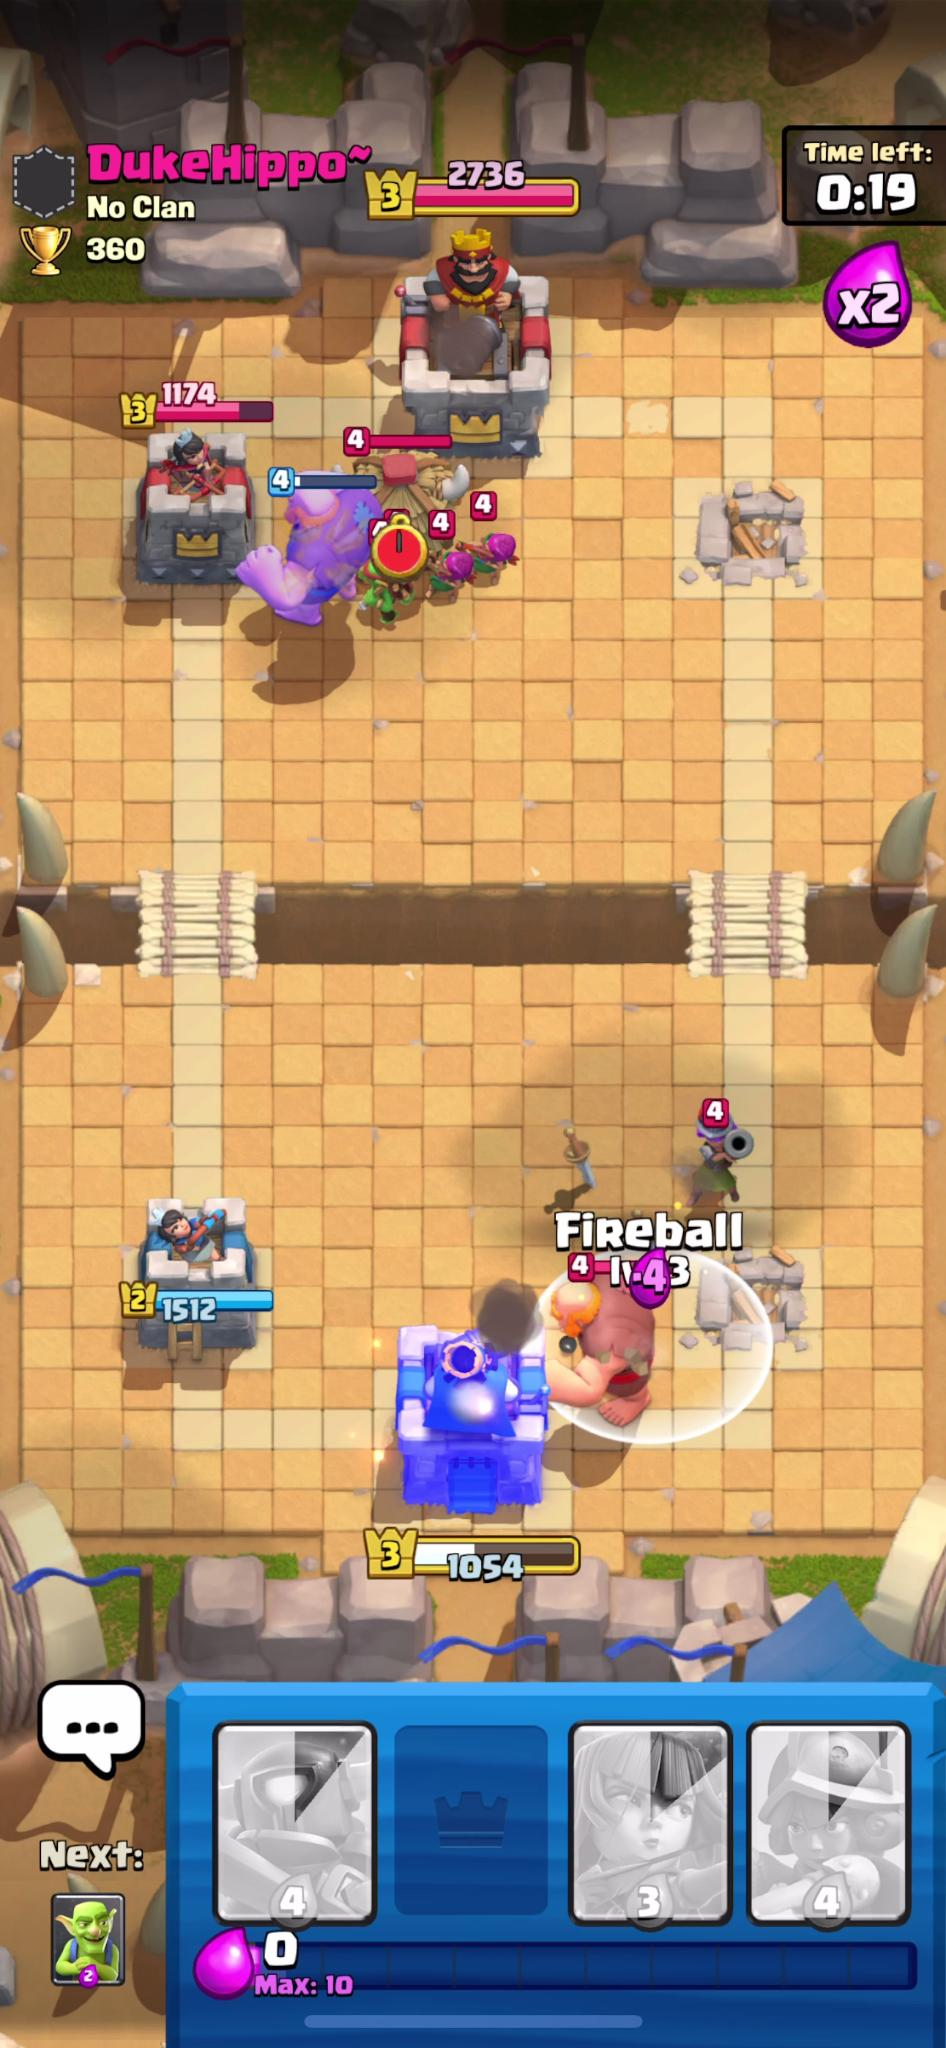archere: (470, 522, 521, 588)
geant: (236, 488, 392, 644), (546, 1258, 664, 1435)
mini_PEKKA: (696, 1095, 754, 1181)
